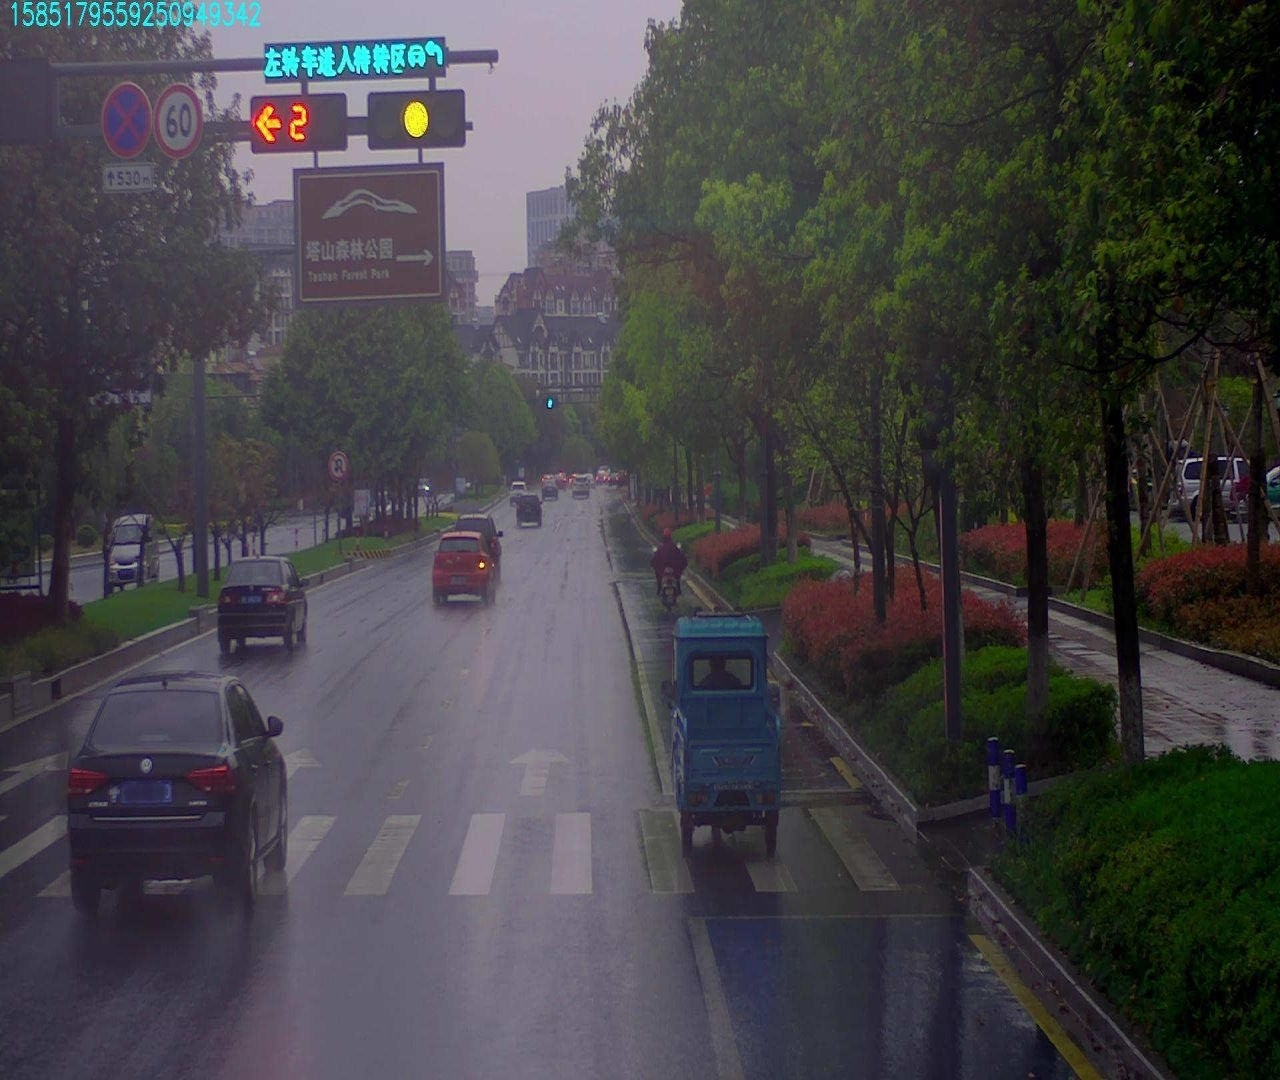red: (255, 96, 344, 146)
yellow: (373, 96, 467, 149)
